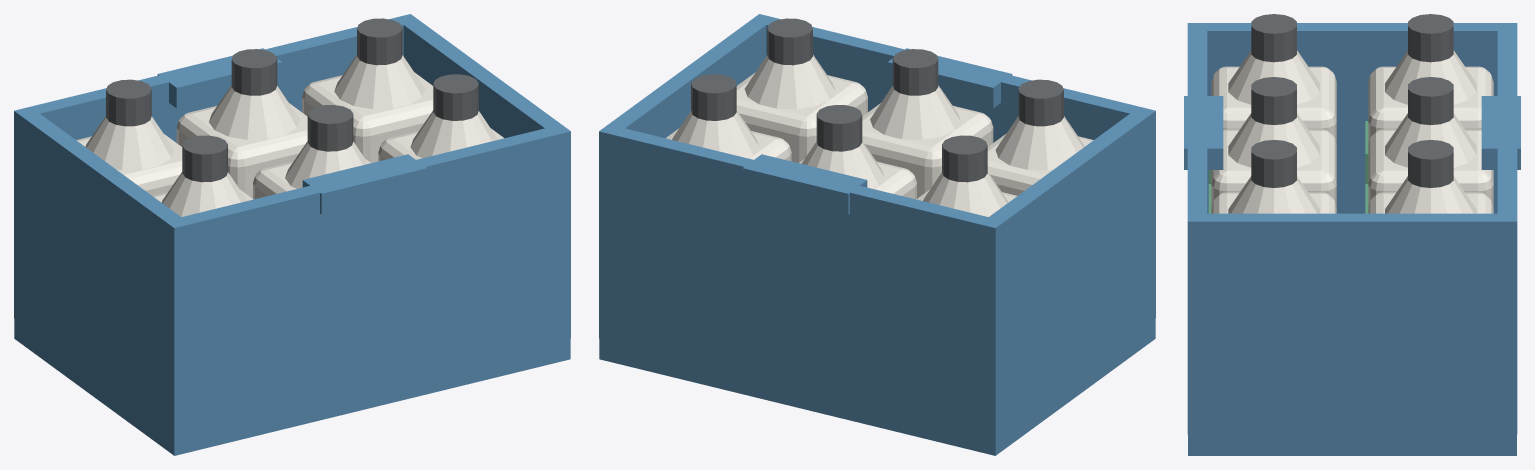
The model's file is oil-crate.glb.
3 views of the same model, side by side, from view 1: azimuth 30°, elevation 25°; view 2: azimuth 150°, elevation 25°; view 3: azimuth 270°, elevation 25° (orthographic). The views are drawn at different scales.
Visible parts, largest first — view 1: car-repair-garage-and-mot-workshop-oil-bottle-crate; view 2: car-repair-garage-and-mot-workshop-oil-bottle-crate; view 3: car-repair-garage-and-mot-workshop-oil-bottle-crate.
Part boxes in pixels (x1,y1,x2,y2): car-repair-garage-and-mot-workshop-oil-bottle-crate: [14, 14, 570, 455]; car-repair-garage-and-mot-workshop-oil-bottle-crate: [599, 14, 1155, 455]; car-repair-garage-and-mot-workshop-oil-bottle-crate: [1184, 14, 1520, 455].
Bounding box in the file's own units: 0.601 × 0.38 × 0.43.
